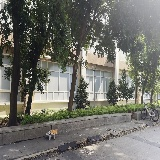fire: (50, 128, 58, 134)
